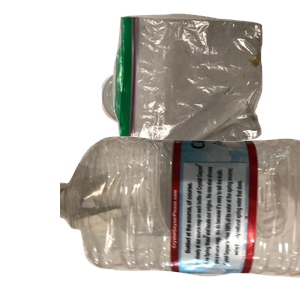glass: (95, 164, 286, 300)
metal: (99, 68, 244, 184)
plastic: (60, 134, 300, 300)
trash: (110, 11, 300, 167)
